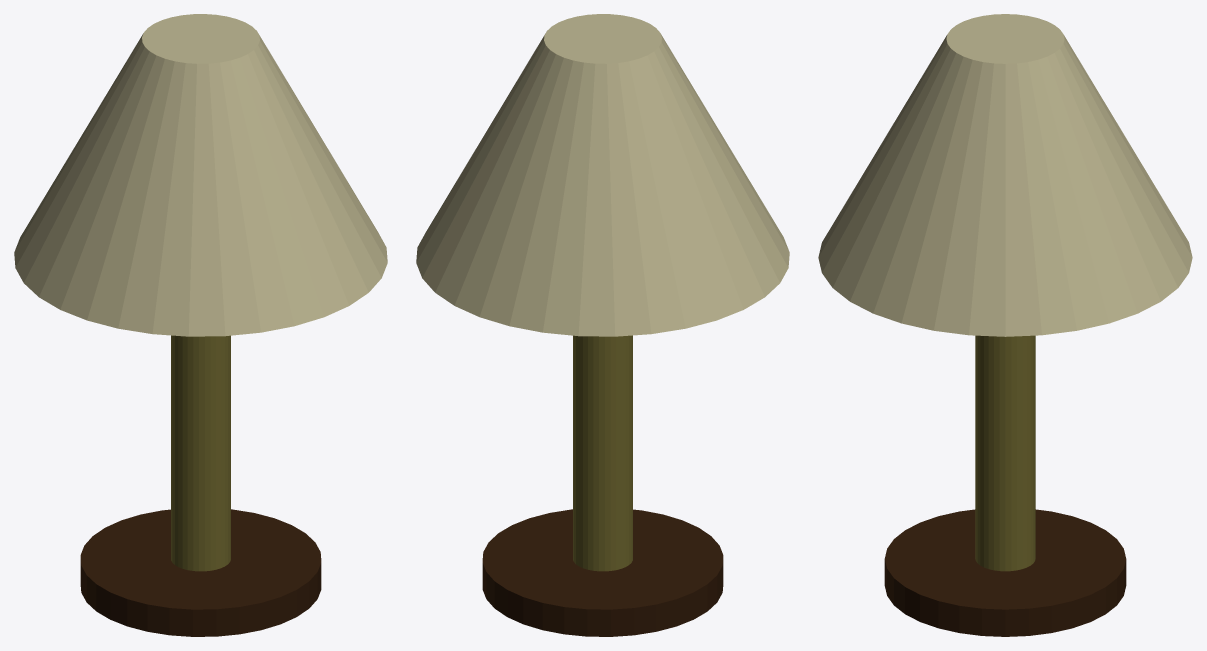
Rendered from Lamp.fbx.
3 views of the same model, side by side, from view 1: azimuth 30°, elevation 25°; view 2: azimuth 150°, elevation 25°; view 3: azimuth 270°, elevation 25° (orthographic).
Parts seen in each view (by area): view 1: Lamp; view 2: Lamp; view 3: Lamp.
Part boxes in pixels (x1=…): Lamp: x1=14, y1=14, x2=387, y2=636; Lamp: x1=416, y1=14, x2=789, y2=636; Lamp: x1=818, y1=14, x2=1192, y2=636.
Bounding box in the file's own units: 620 × 1000 × 620.
